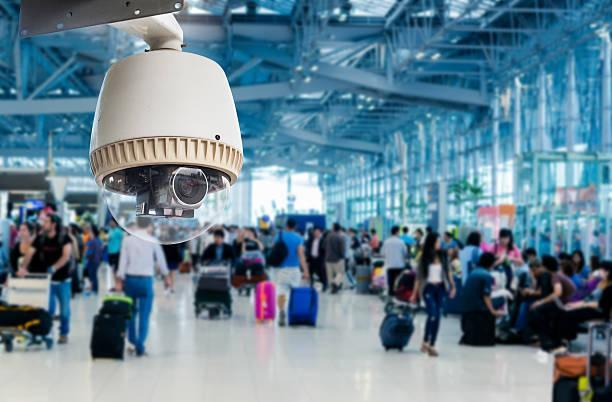camera: (77, 29, 265, 265)
